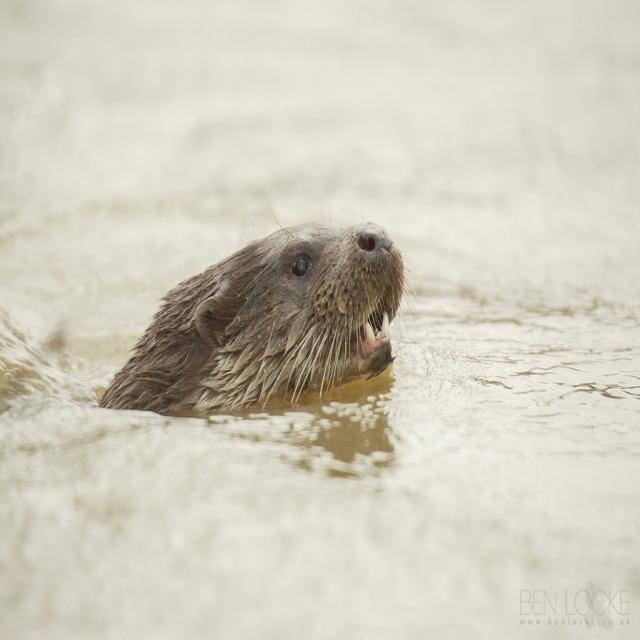otter: (100, 223, 404, 412)
